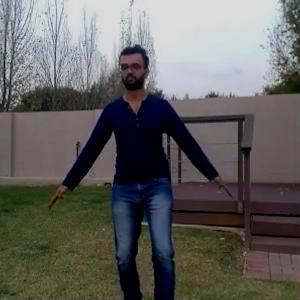land: (45, 40, 242, 299)
